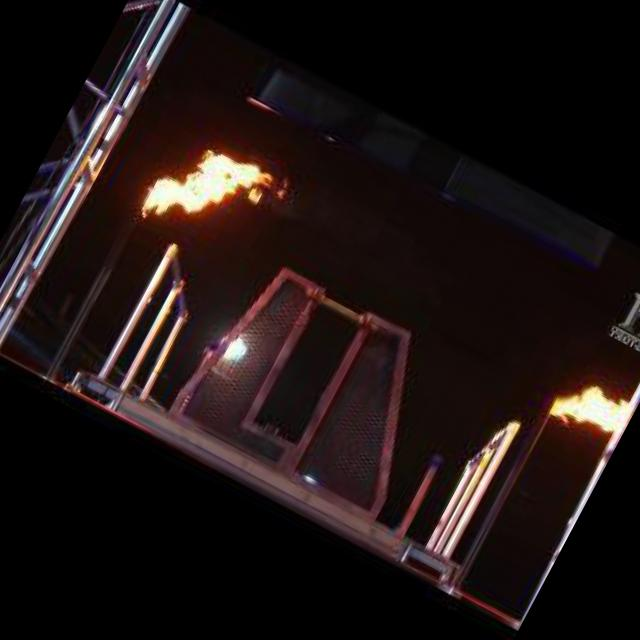fire: (112, 107, 300, 279), (529, 341, 640, 457)
